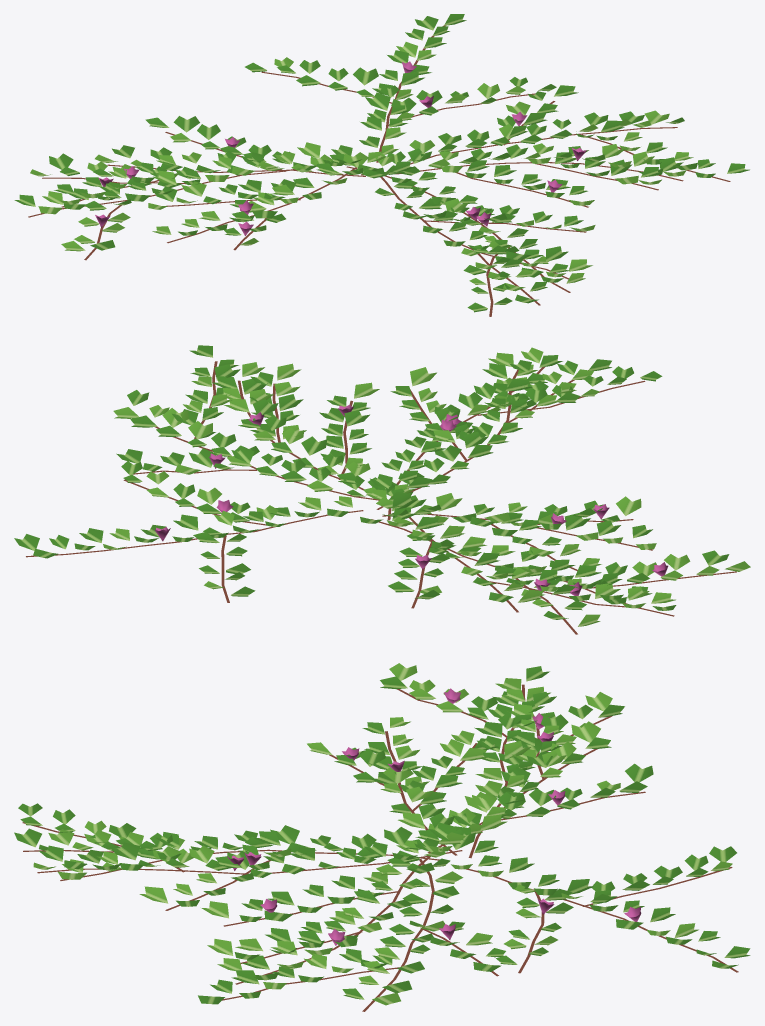
3 renders of one model, top to bottom at view 1: azimuth 30°, elevation 25°; view 2: azimuth 150°, elevation 25°; view 3: azimuth 270°, elevation 25°, orthographic. The views are drawn at different scales.
Parts seen in each view (by area): view 1: foliage; view 2: foliage; view 3: foliage.
Boxes of the visible parts, box(x1,y1,x2,y2) form: foliage: box(14, 14, 749, 316); foliage: box(14, 345, 750, 634); foliage: box(14, 663, 750, 1011).
Size of the model in its own units: 3.29 by 0.0885 by 3.03.
1 material, 1 textured.
